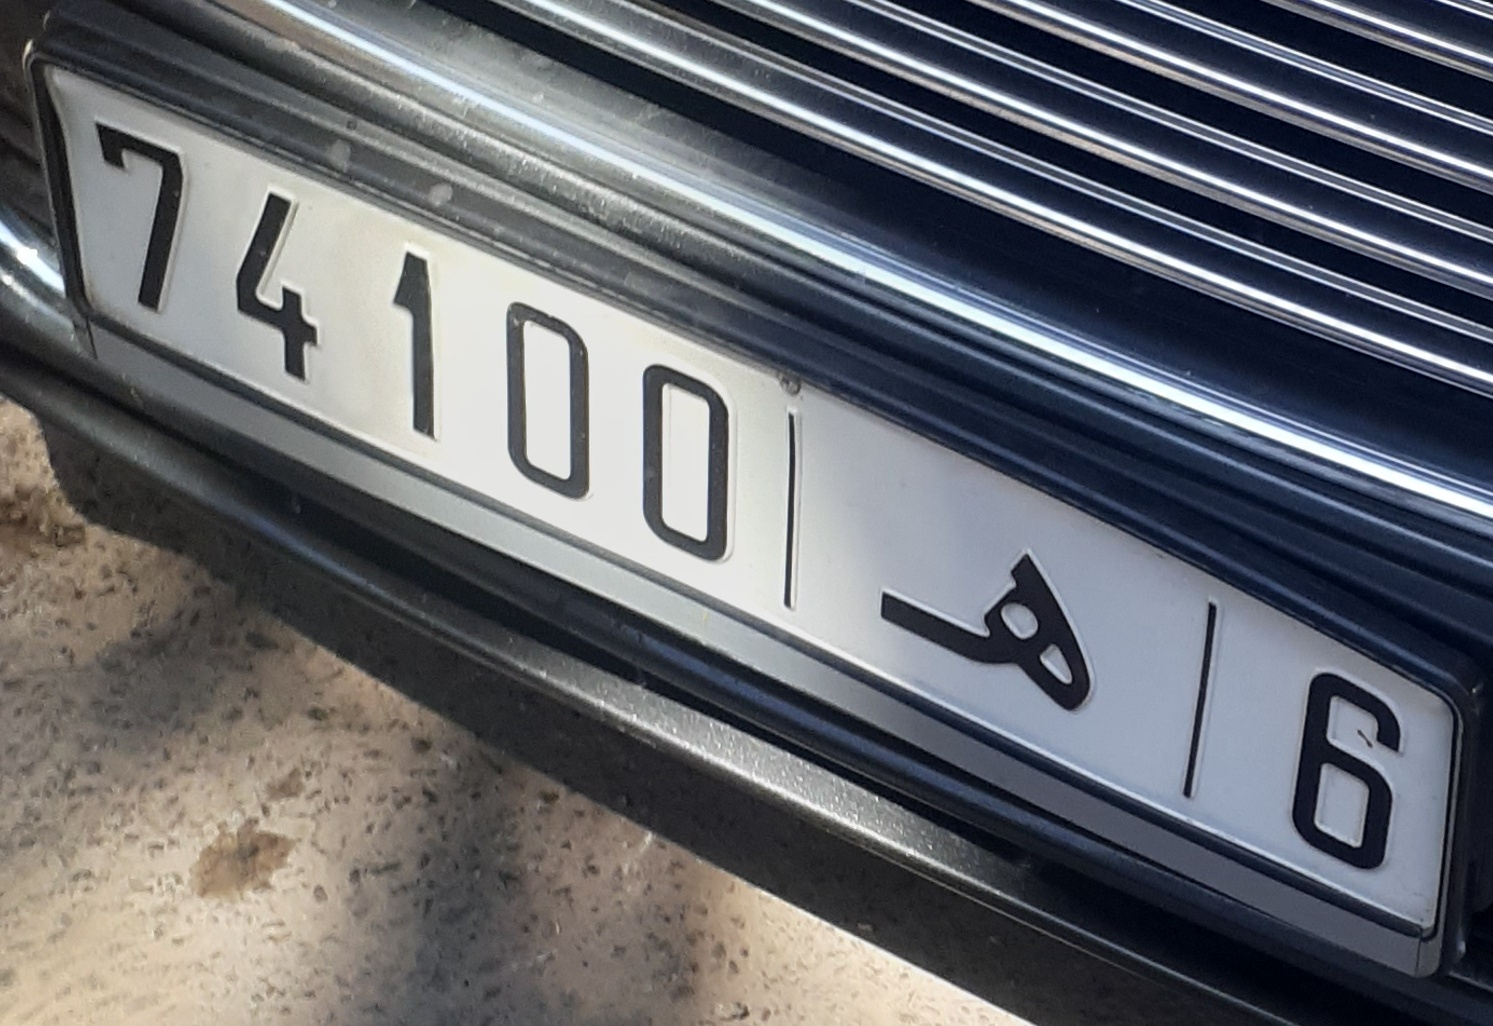0: (488, 278, 610, 527), (632, 343, 746, 571)
1: (369, 229, 463, 452)
4: (212, 171, 339, 388)
6: (1258, 663, 1410, 877)
7: (106, 92, 183, 330)
h: (838, 479, 1139, 708)
